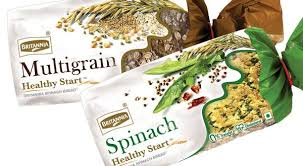bread: (80, 28, 285, 159), (9, 4, 195, 101)
